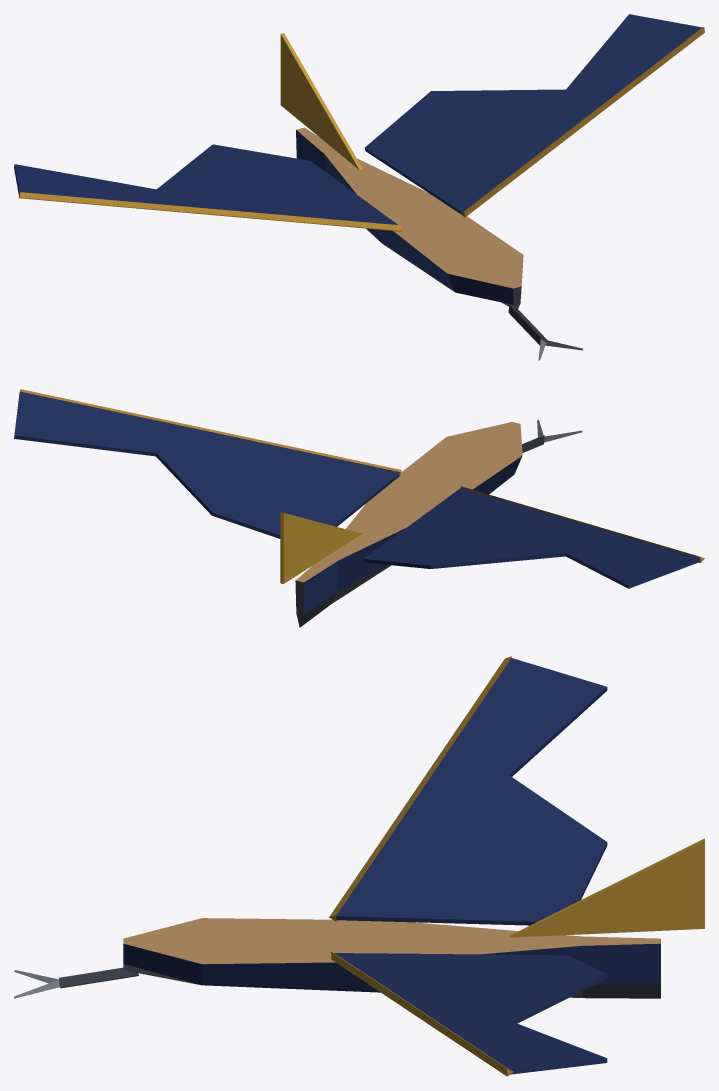
The model's file is SM_Ship_AssaultGlider_LQ.glb.
3 renders of one model, top to bottom at view 1: azimuth 30°, elevation 25°; view 2: azimuth 150°, elevation 25°; view 3: azimuth 270°, elevation 25°, orthographic. The views are drawn at different scales.
Parts seen in each view (by area): view 1: SM_Ship_AssaultGlider_LQ; view 2: SM_Ship_AssaultGlider_LQ; view 3: SM_Ship_AssaultGlider_LQ.
Boxes of the visible parts, x1,y1,x2,y2 form: SM_Ship_AssaultGlider_LQ: (14, 14, 704, 360); SM_Ship_AssaultGlider_LQ: (14, 389, 704, 627); SM_Ship_AssaultGlider_LQ: (14, 656, 704, 1076).
Size of the model in its own units: 10.03 by 1.8 by 7.07.
1 material, 1 textured.
